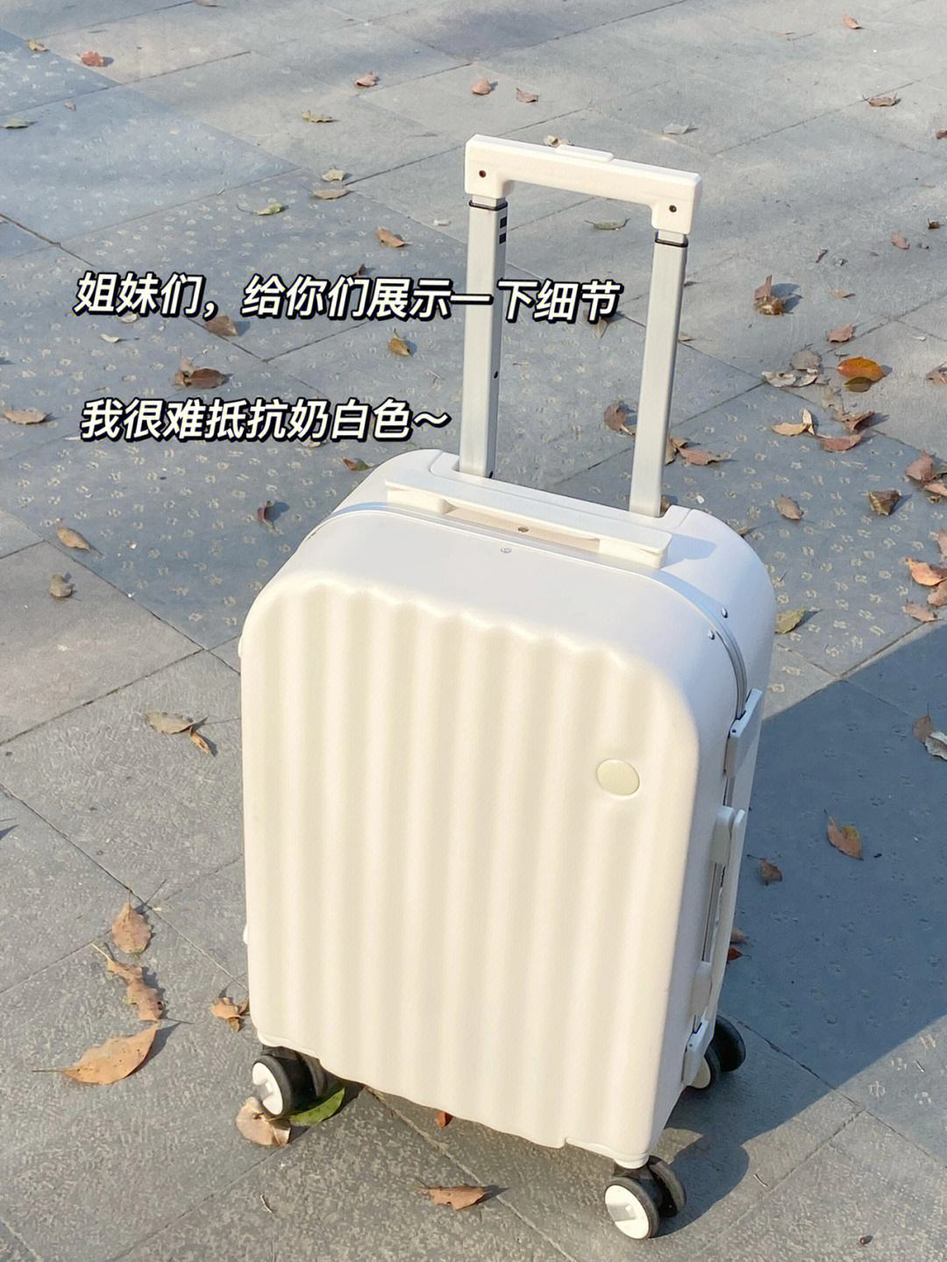box: (239, 450, 774, 1169)
handle: (382, 467, 671, 572), (689, 805, 749, 1010)
wheel: (604, 1154, 688, 1242), (251, 1045, 329, 1118), (688, 1015, 746, 1094)
